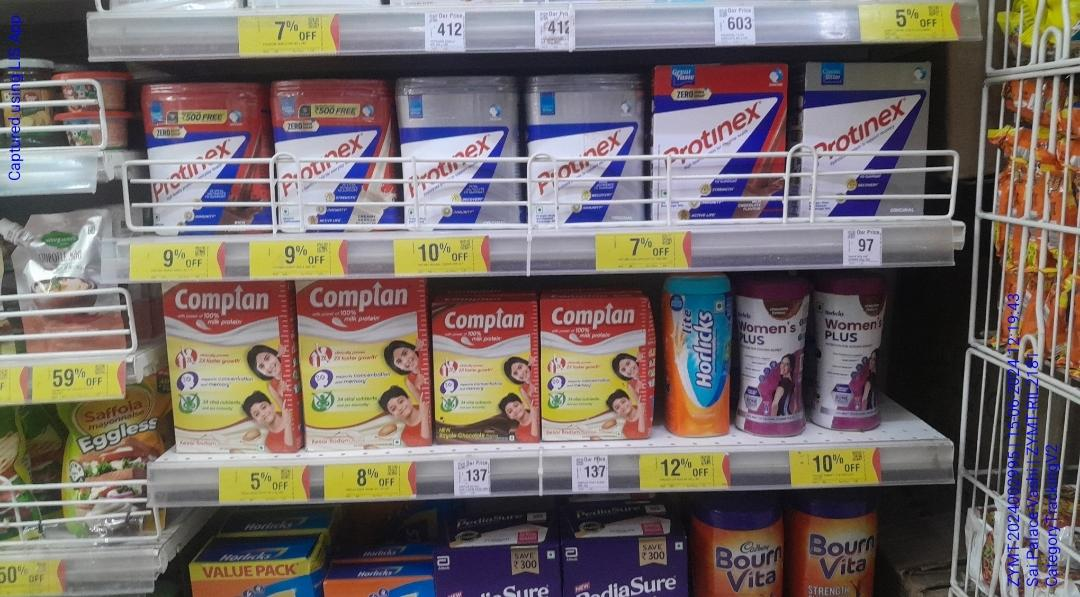COMPLAN_CHOCOLATE_200_GMS_PACK: (435, 304, 541, 443)
COMPLAN_KESAR_BADAM_200_GMS_PACK: (545, 302, 649, 443)
COMPLAN_KESAR_BADAM_500_GMS_PACK: (299, 280, 430, 445), (166, 286, 296, 451)
HORLICKS_LITE_REGULAR_MALT_500_GM_JAR: (666, 280, 730, 438)
PROTINEX_CHOCOLATE_400_G_JAR: (147, 85, 266, 231)
PROTINEX_ORIGINAL_400_G_JAR: (403, 75, 520, 230), (528, 77, 641, 222)
PROTINEX_VANILLA_400_G_JAR: (274, 83, 395, 224)
